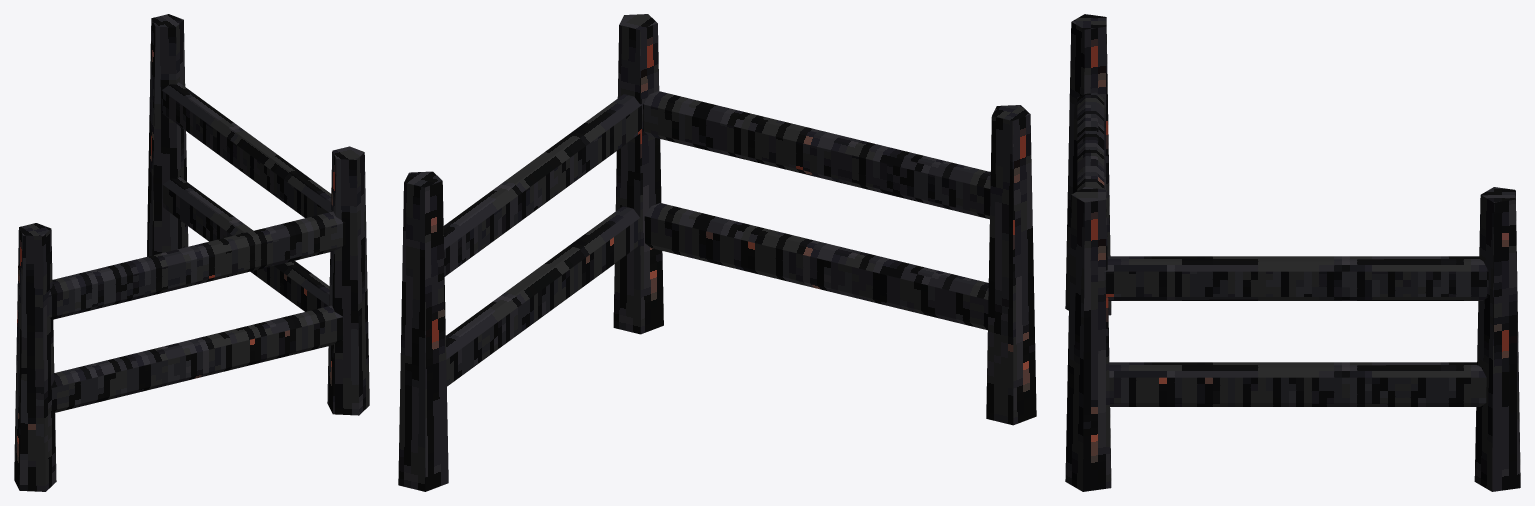
The model's file is enfeite_cerca_canto.glb.
The picture shows the model from 3 angles, left to right: view 1: azimuth 30°, elevation 25°; view 2: azimuth 150°, elevation 25°; view 3: azimuth 270°, elevation 25°; orthographic projection. The views are drawn at different scales.
Parts seen in each view (by area): view 1: vulcao_enfeite_cerca_canto; view 2: vulcao_enfeite_cerca_canto; view 3: vulcao_enfeite_cerca_canto.
Boxes of the visible parts, box(x1,y1,x2,y2) form: vulcao_enfeite_cerca_canto: box(14, 14, 369, 491); vulcao_enfeite_cerca_canto: box(398, 14, 1036, 491); vulcao_enfeite_cerca_canto: box(1065, 14, 1520, 491).
Bounding box in the file's own units: 0.9389 × 0.65 × 0.9341.
1 material, 1 textured.
